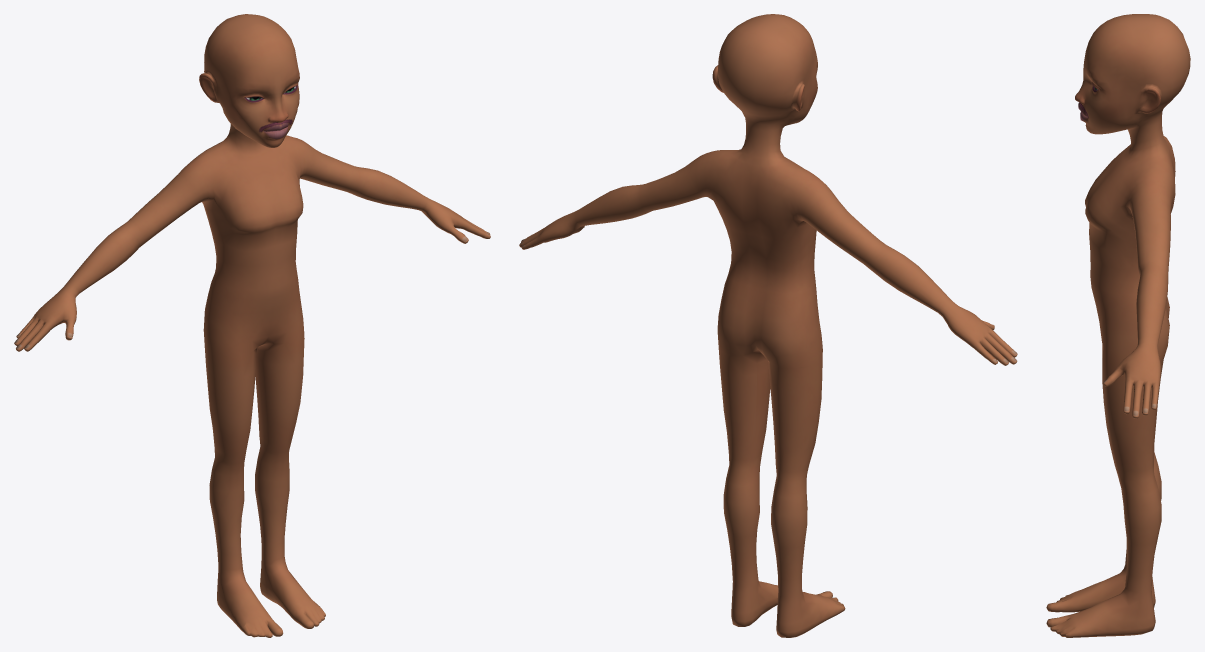
File: frame_0056.glb
3 views of the same model, side by side, from view 1: azimuth 30°, elevation 25°; view 2: azimuth 150°, elevation 25°; view 3: azimuth 270°, elevation 25° (orthographic). The views are drawn at different scales.
Parts seen in each view (by area): view 1: frame_0056_head_geo; view 2: frame_0056_head_geo; view 3: frame_0056_head_geo.
Part boxes in pixels (x1=…): frame_0056_head_geo: x1=14, y1=14, x2=490, y2=637; frame_0056_head_geo: x1=519, y1=14, x2=1017, y2=637; frame_0056_head_geo: x1=1046, y1=14, x2=1190, y2=637.
Size of the model in its own units: 1.28 by 1.5 by 0.3253.
3 materials, 3 textured.
